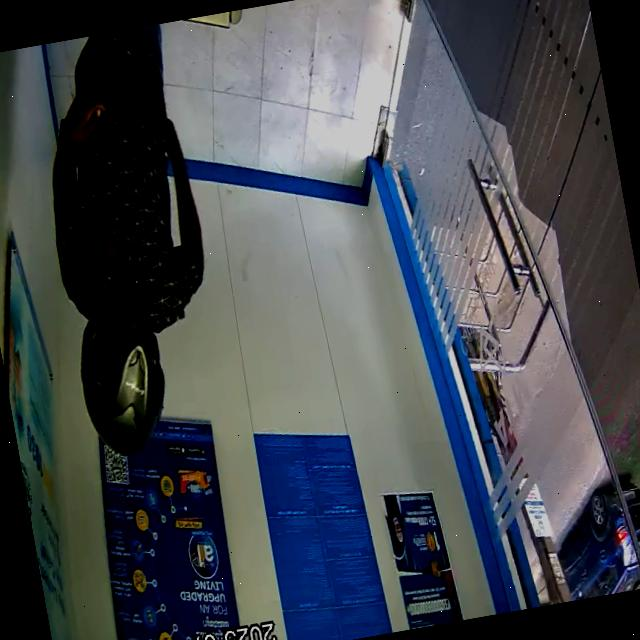helmet: (79, 277, 165, 456)
